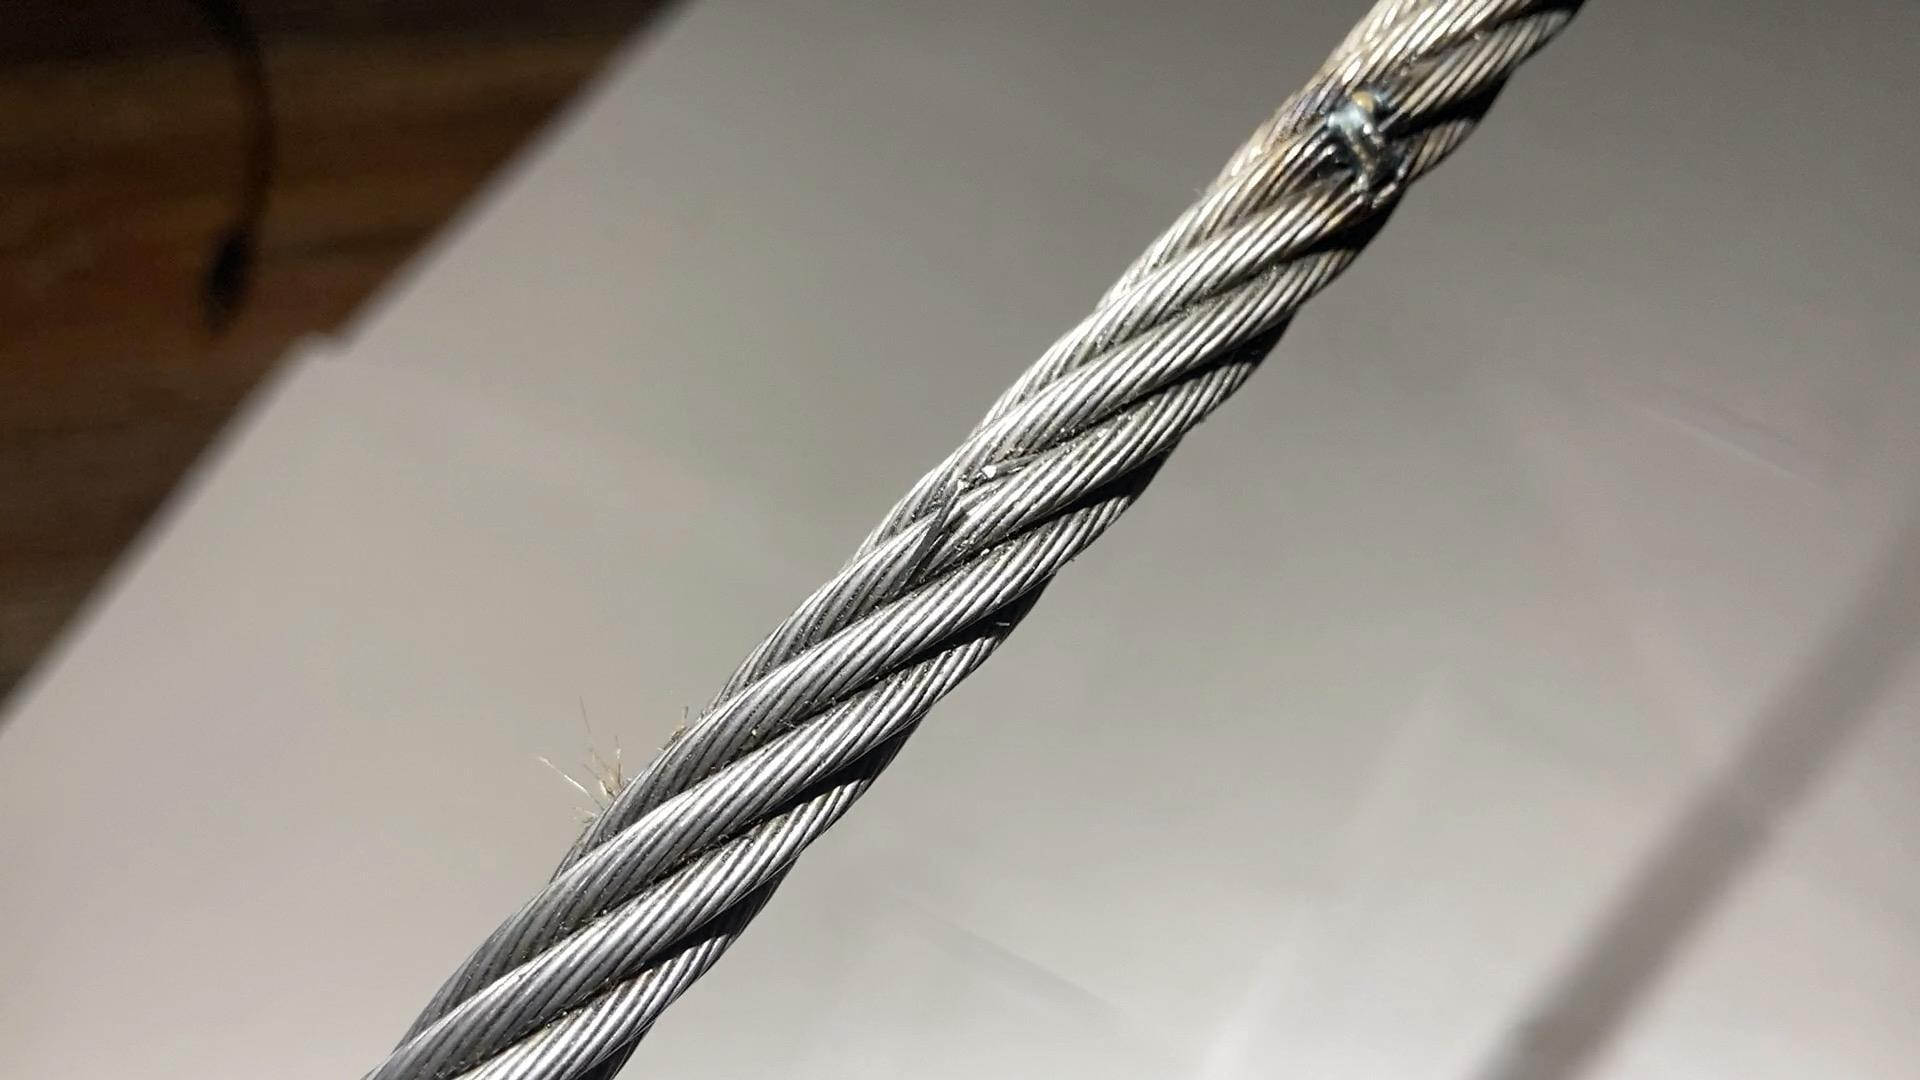break: (895, 473, 984, 576)
thunderbolt: (1302, 83, 1433, 216)
